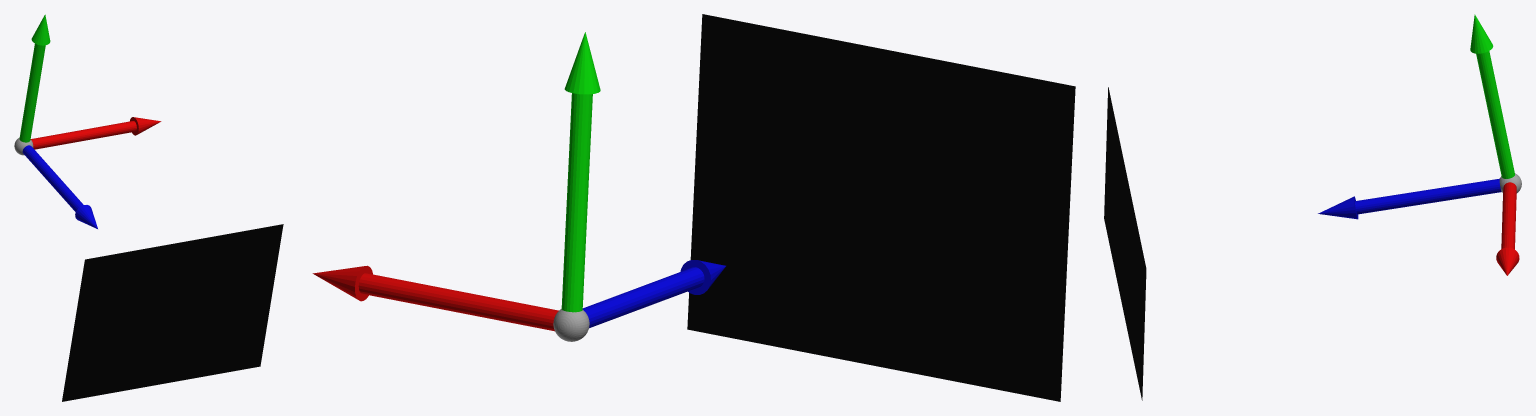
3 views of the same model, side by side, from view 1: azimuth 30°, elevation 25°; view 2: azimuth 150°, elevation 25°; view 3: azimuth 270°, elevation 25° (orthographic). The views are drawn at different scales.
Bounding box in the file's own units: 0.2243 × 0.239 × 0.2669.
